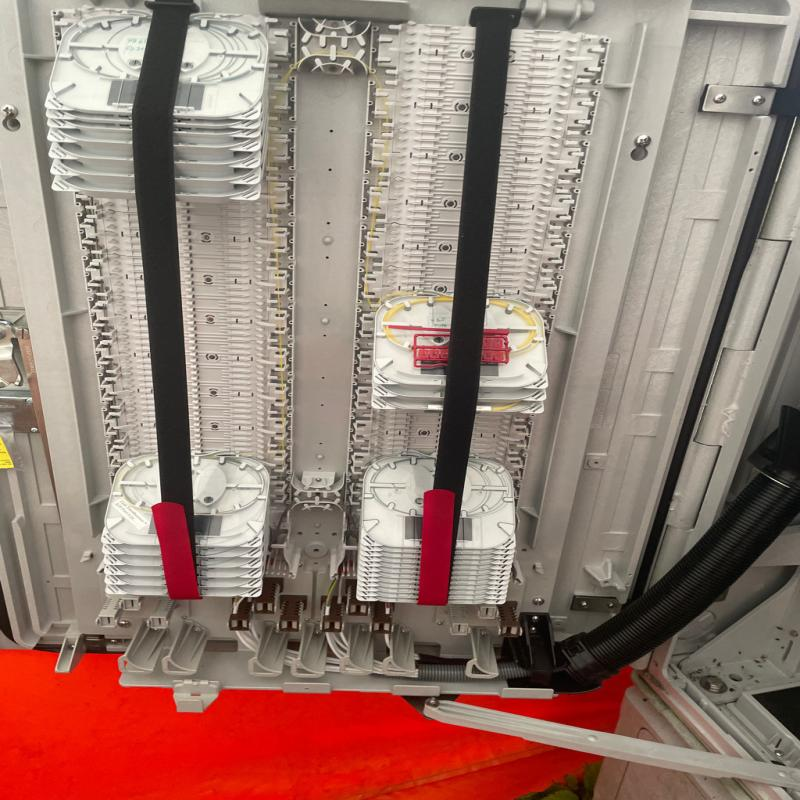NT-Gehause: (3, 0, 797, 799)
Spleiskassetten: (349, 11, 628, 618), (42, 2, 312, 616)
